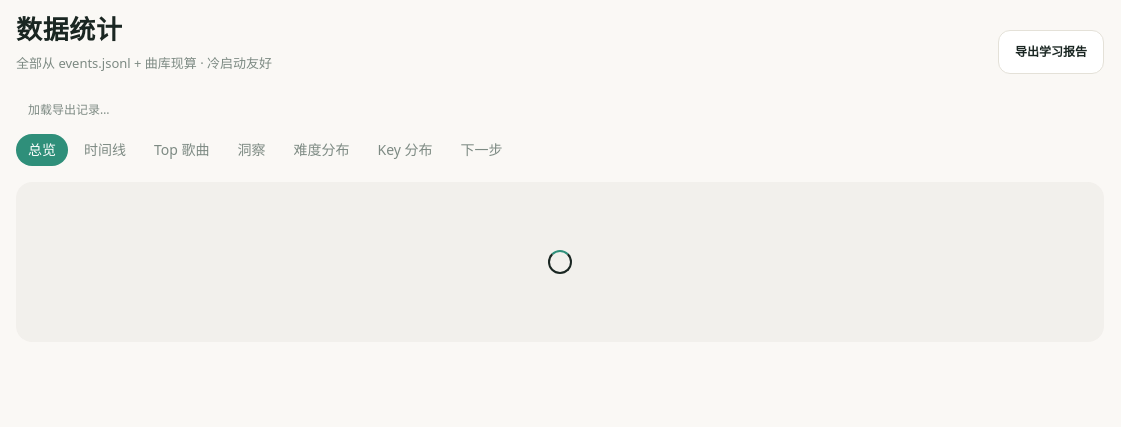
Test: StatsView Top tab 数据反哺 › 创建中显示 spinner + disable
Click the tab with test id "stats-tab-top" at (182, 150), box [142,134,222,166]
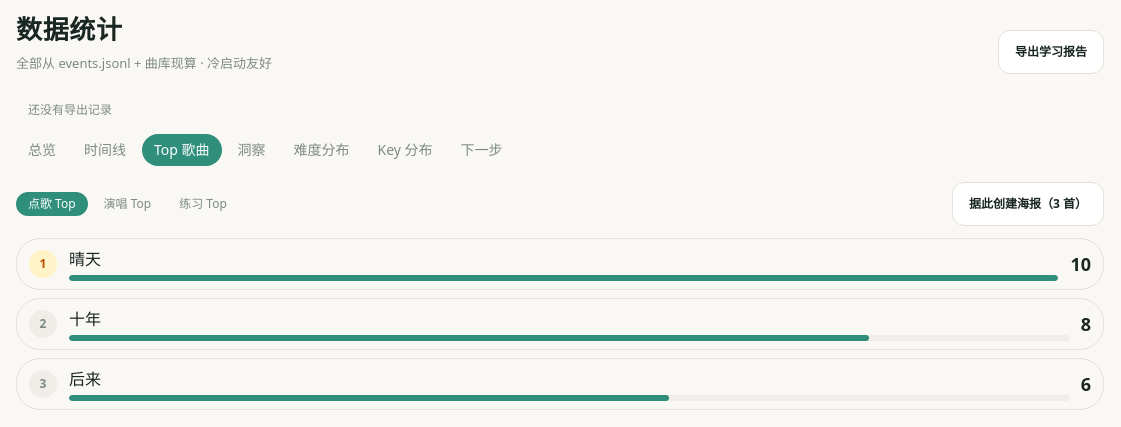
Result: the button with test id "top-create-poster" is shown
Click the button with test id "top-create-poster" at (1028, 204), box [952,182,1104,226]
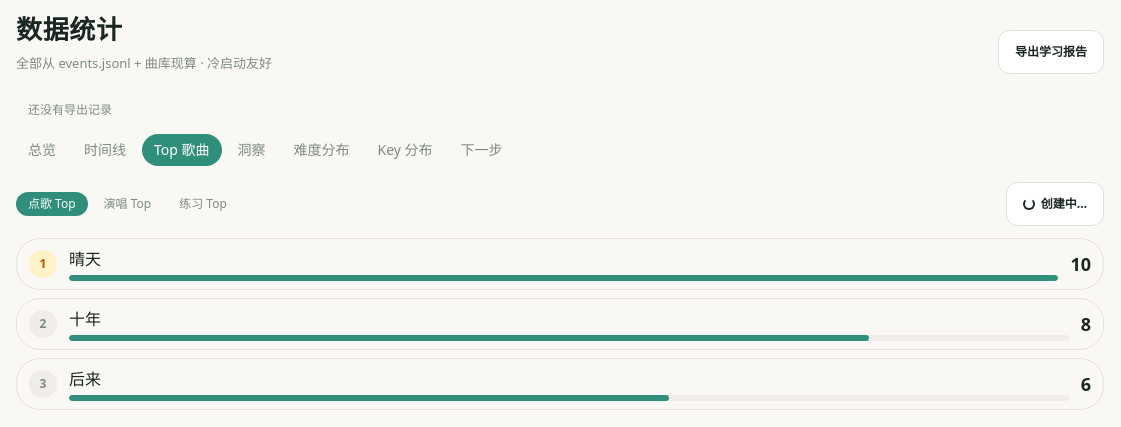
Result: the button with test id "top-create-poster" is disabled at [1006,182,1104,226]
Result: the button with test id "top-create-poster" shows "创建中" at [1006,182,1104,226]
